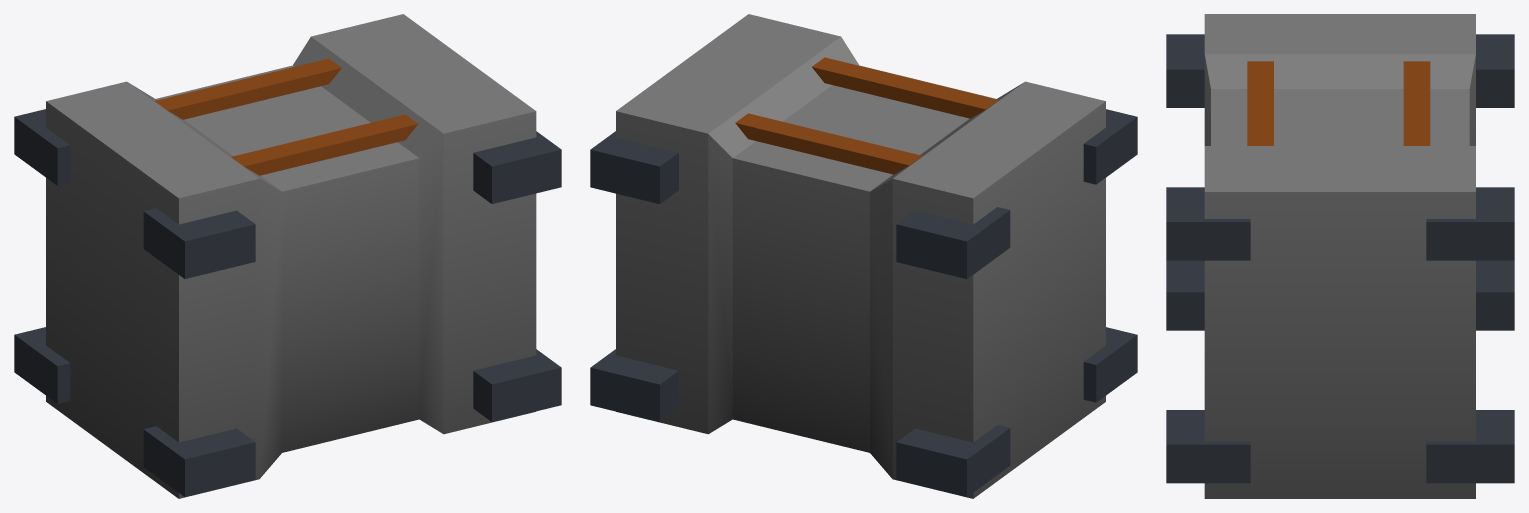
Rendered from fense_cube.fbx.
3 views of the same model, side by side, from view 1: azimuth 30°, elevation 25°; view 2: azimuth 150°, elevation 25°; view 3: azimuth 270°, elevation 25° (orthographic). The views are drawn at different scales.
Parts seen in each view (by area): view 1: fence_quad; view 2: fence_quad; view 3: fence_quad.
Boxes of the visible parts, x1,y1,x2,y2 form: fence_quad: [14, 14, 561, 498]; fence_quad: [590, 14, 1137, 498]; fence_quad: [1166, 14, 1514, 498].
Size of the model in its own units: 1.17 by 0.8892 by 0.9139.
